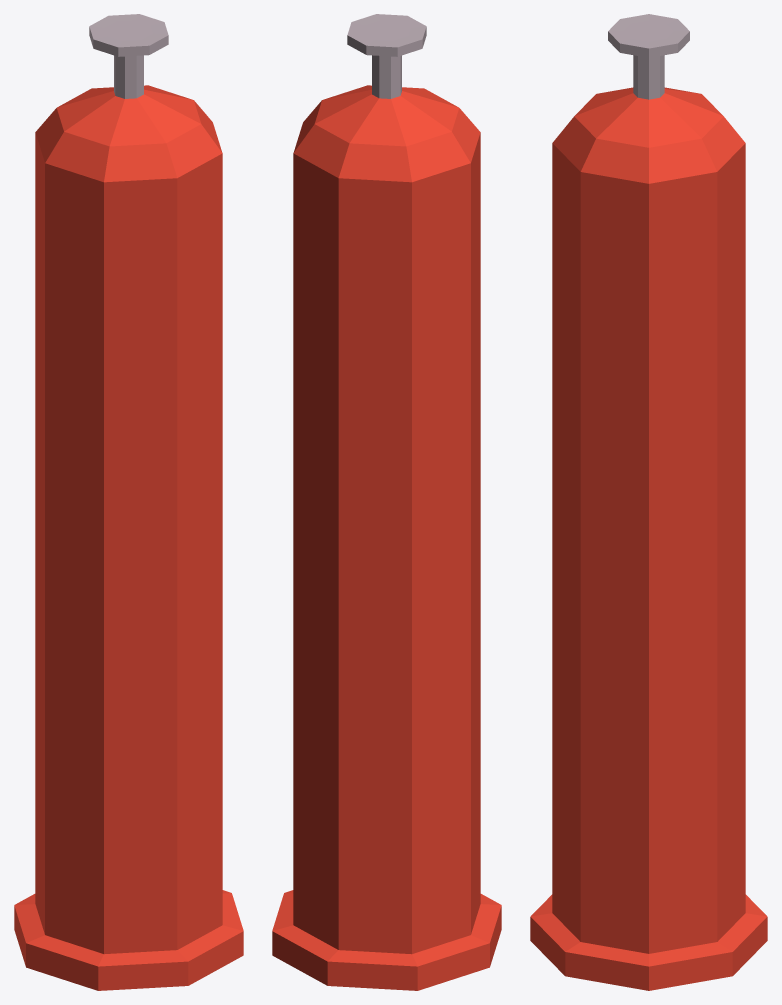
The model's file is SM_Gasbag_02.fbx.
The picture shows the model from 3 angles, left to right: view 1: azimuth 30°, elevation 25°; view 2: azimuth 150°, elevation 25°; view 3: azimuth 270°, elevation 25°; orthographic projection.
Parts seen in each view (by area): view 1: SM_Gasbag_02; view 2: SM_Gasbag_02; view 3: SM_Gasbag_02.
Boxes of the visible parts, <box> form: SM_Gasbag_02: <box>14,14,243,990</box>; SM_Gasbag_02: <box>272,14,501,990</box>; SM_Gasbag_02: <box>530,14,767,990</box>.
Size of the model in its own units: 29.28 by 124 by 29.28.
